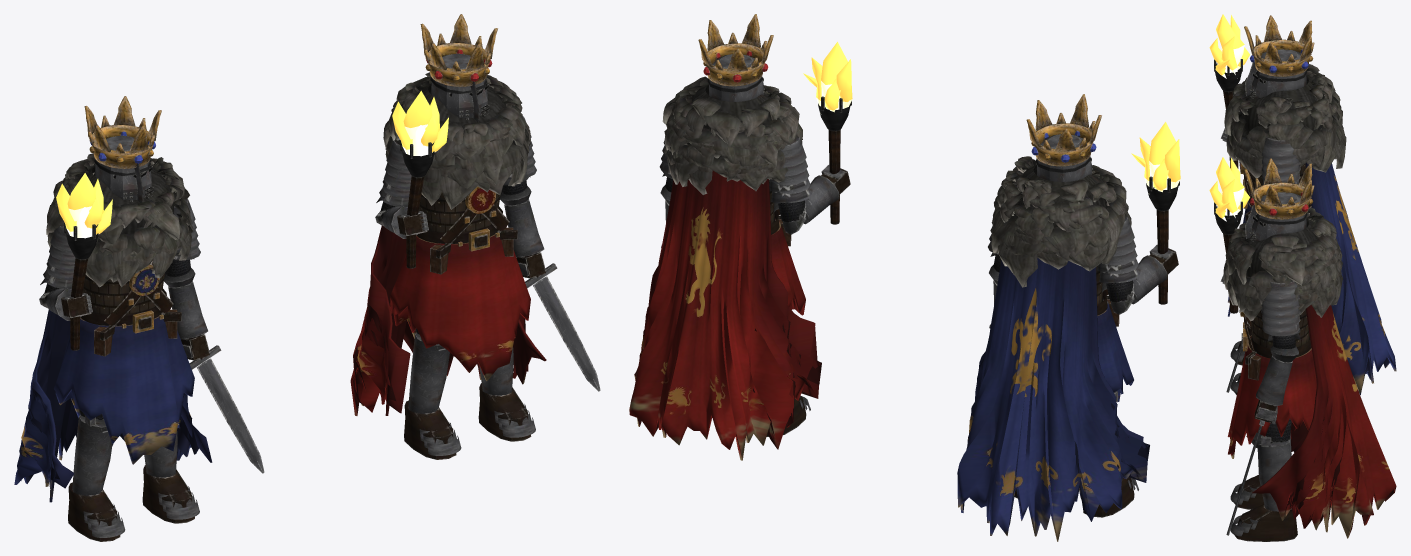
The model's file is ringhold_kings.glb.
3 renders of one model, left to right at view 1: azimuth 30°, elevation 25°; view 2: azimuth 150°, elevation 25°; view 3: azimuth 270°, elevation 25°, orthographic. The views are drawn at different scales.
Parts seen in each view (by area): view 1: king_blue_armor, king_red_armor, king_red_skirt, king_blue_skirt, king_red_fur, king_blue_fur, king_red_cape, king_blue_cape, king_red_crown_mesh, king_blue_crown_mesh, king_blue_torch_flame, king_red_torch_flame (+6 smaller); view 2: king_red_cape, king_blue_cape, king_blue_fur, king_red_fur, king_red_armor, king_blue_armor, king_blue_crown_mesh, king_red_crown_mesh, king_blue_torch_flame, king_red_torch_flame, king_blue_skirt, king_red_skirt (+4 smaller); view 3: king_red_cape, king_red_armor, king_blue_fur, king_red_fur, king_blue_cape, king_red_skirt, king_blue_crown_mesh, king_red_crown_mesh, king_blue_armor, king_red_torch_flame, king_blue_torch_flame, king_blue_helm (+4 smaller).
Boxes of the visible parts, bbox=[...] form: king_blue_armor: bbox=[39, 199, 209, 541]; king_red_armor: bbox=[375, 115, 545, 459]; king_red_skirt: bbox=[390, 234, 530, 381]; king_blue_skirt: bbox=[54, 316, 194, 464]; king_red_fur: bbox=[383, 72, 530, 209]; king_blue_fur: bbox=[46, 153, 193, 287]; king_red_cape: bbox=[350, 225, 546, 415]; king_blue_cape: bbox=[14, 310, 212, 502]; king_red_crown_mesh: bbox=[420, 14, 497, 86]; king_blue_crown_mesh: bbox=[84, 96, 161, 168]; king_blue_torch_flame: bbox=[56, 173, 112, 238]; king_red_torch_flame: bbox=[392, 90, 448, 156]; king_red_cape: bbox=[629, 170, 821, 460]; king_blue_cape: bbox=[957, 258, 1149, 541]; king_blue_fur: bbox=[991, 156, 1131, 287]; king_red_fur: bbox=[662, 76, 802, 194]; king_red_armor: bbox=[659, 136, 850, 436]; king_blue_armor: bbox=[988, 209, 1178, 517]; king_blue_crown_mesh: bbox=[1026, 94, 1101, 166]; king_red_crown_mesh: bbox=[698, 14, 773, 86]; king_blue_torch_flame: bbox=[1131, 122, 1180, 194]; king_red_torch_flame: bbox=[803, 42, 852, 114]; king_blue_skirt: bbox=[1097, 299, 1133, 402]; king_red_skirt: bbox=[771, 219, 805, 315]; king_red_cape: bbox=[1252, 305, 1396, 538]; king_red_armor: bbox=[1220, 274, 1311, 541]; king_blue_fur: bbox=[1224, 64, 1346, 178]; king_red_fur: bbox=[1223, 207, 1342, 321]; king_blue_cape: bbox=[1305, 162, 1396, 394]; king_red_skirt: bbox=[1227, 335, 1316, 458]; king_blue_crown_mesh: bbox=[1244, 15, 1314, 76]; king_red_crown_mesh: bbox=[1244, 158, 1314, 219]; king_blue_armor: bbox=[1221, 128, 1311, 394]; king_red_torch_flame: bbox=[1209, 157, 1249, 221]; king_blue_torch_flame: bbox=[1209, 14, 1249, 78]; king_blue_helm: bbox=[1245, 49, 1307, 99].
Bounding box in the file's own units: 2.89 × 2.05 × 0.9963.
20 materials, 18 textured.
